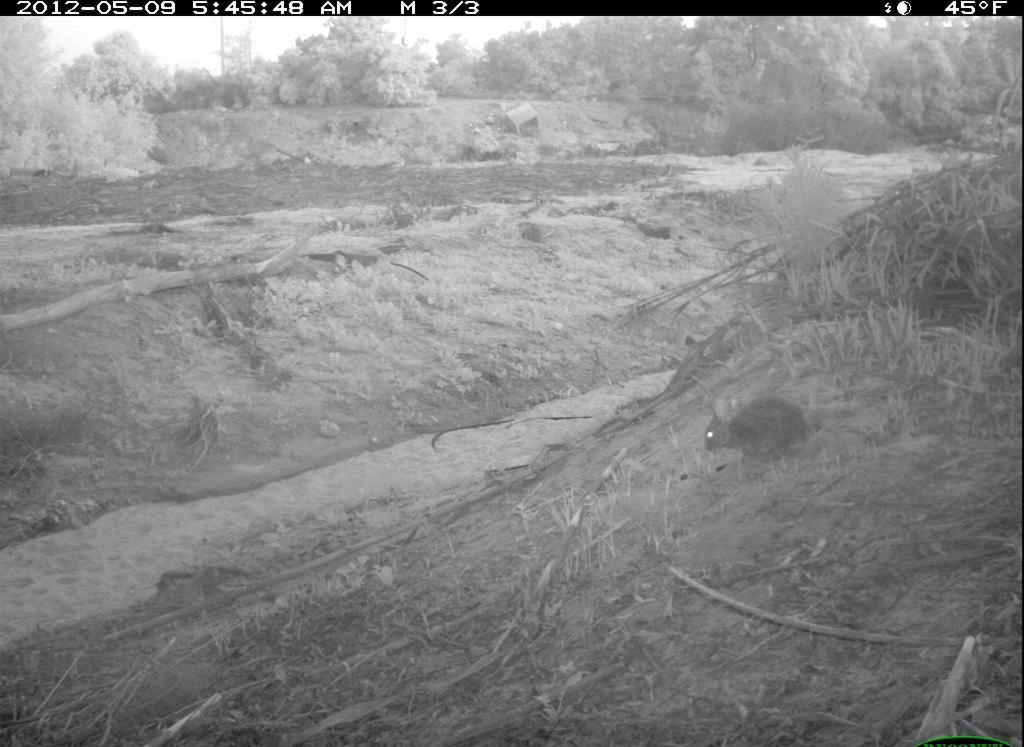rabbit: (698, 387, 824, 482)
